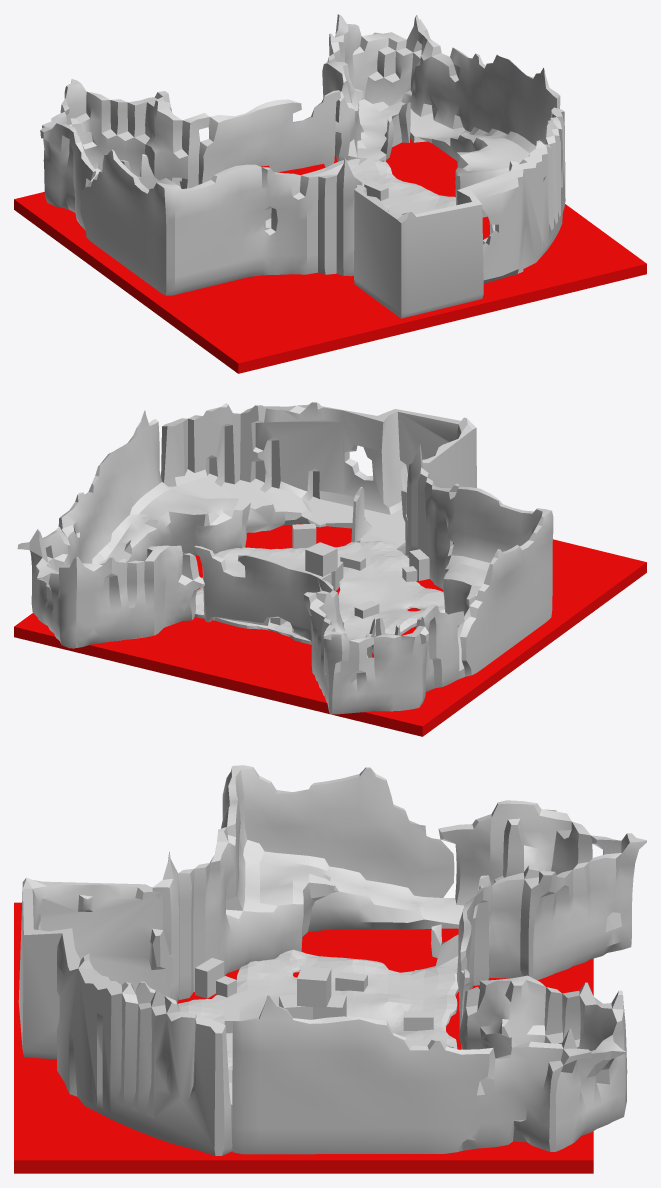
The model's file is EnvifoJam.fbx.
3 renders of one model, top to bottom at view 1: azimuth 30°, elevation 25°; view 2: azimuth 150°, elevation 25°; view 3: azimuth 270°, elevation 25°, orthographic. The views are drawn at different scales.
Parts seen in each view (by area): view 1: Center, DeadZone, Suelo; view 2: Center, DeadZone, Suelo; view 3: Center, DeadZone, Suelo.
Boxes of the visible parts, box(x1,y1,x2,y2) form: Center: box(40, 14, 565, 318); DeadZone: box(14, 138, 646, 373); Suelo: box(90, 104, 529, 242); Center: box(17, 402, 553, 714); DeadZone: box(14, 523, 646, 736); Suelo: box(98, 473, 487, 671); Center: box(18, 765, 646, 1155); DeadZone: box(14, 902, 593, 1173); Suelo: box(179, 851, 475, 1082).
Bounding box in the file's own units: 4089 × 1295 × 4240.
